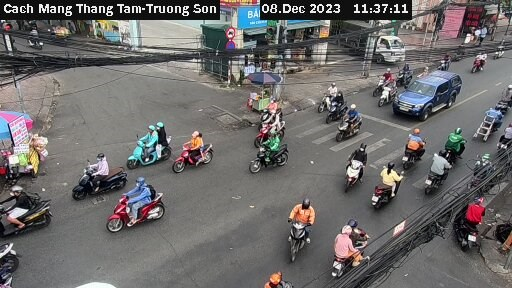car: (393, 66, 457, 120)
motorbike: (102, 179, 174, 239), (63, 146, 129, 194), (1, 183, 53, 233), (324, 222, 372, 275), (368, 159, 408, 215), (280, 200, 320, 253), (448, 202, 490, 248), (334, 143, 369, 198), (330, 107, 378, 147), (120, 124, 169, 162), (171, 134, 219, 172), (245, 134, 293, 170), (399, 127, 432, 171), (424, 151, 456, 196), (436, 125, 473, 159), (258, 114, 292, 145), (313, 79, 348, 107), (1, 237, 27, 274), (322, 92, 354, 122), (468, 49, 491, 81), (372, 68, 400, 93), (378, 81, 402, 105)
truck: (337, 17, 407, 64)
